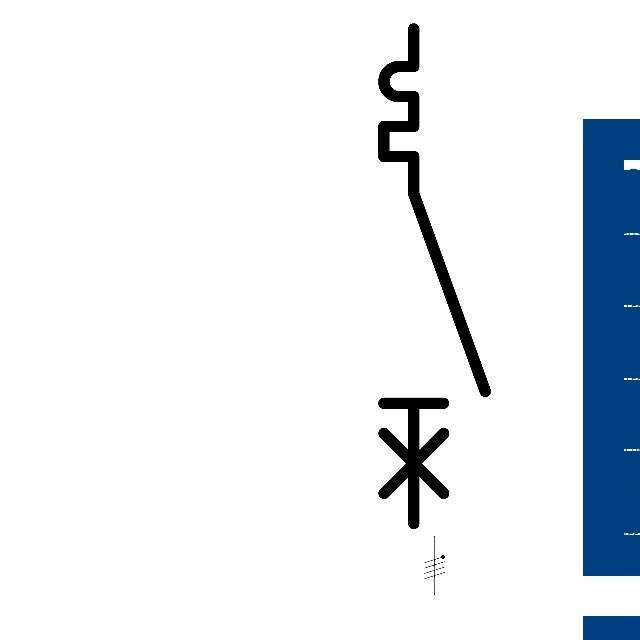interruptor_termomagnetico: (371, 16, 498, 536)
